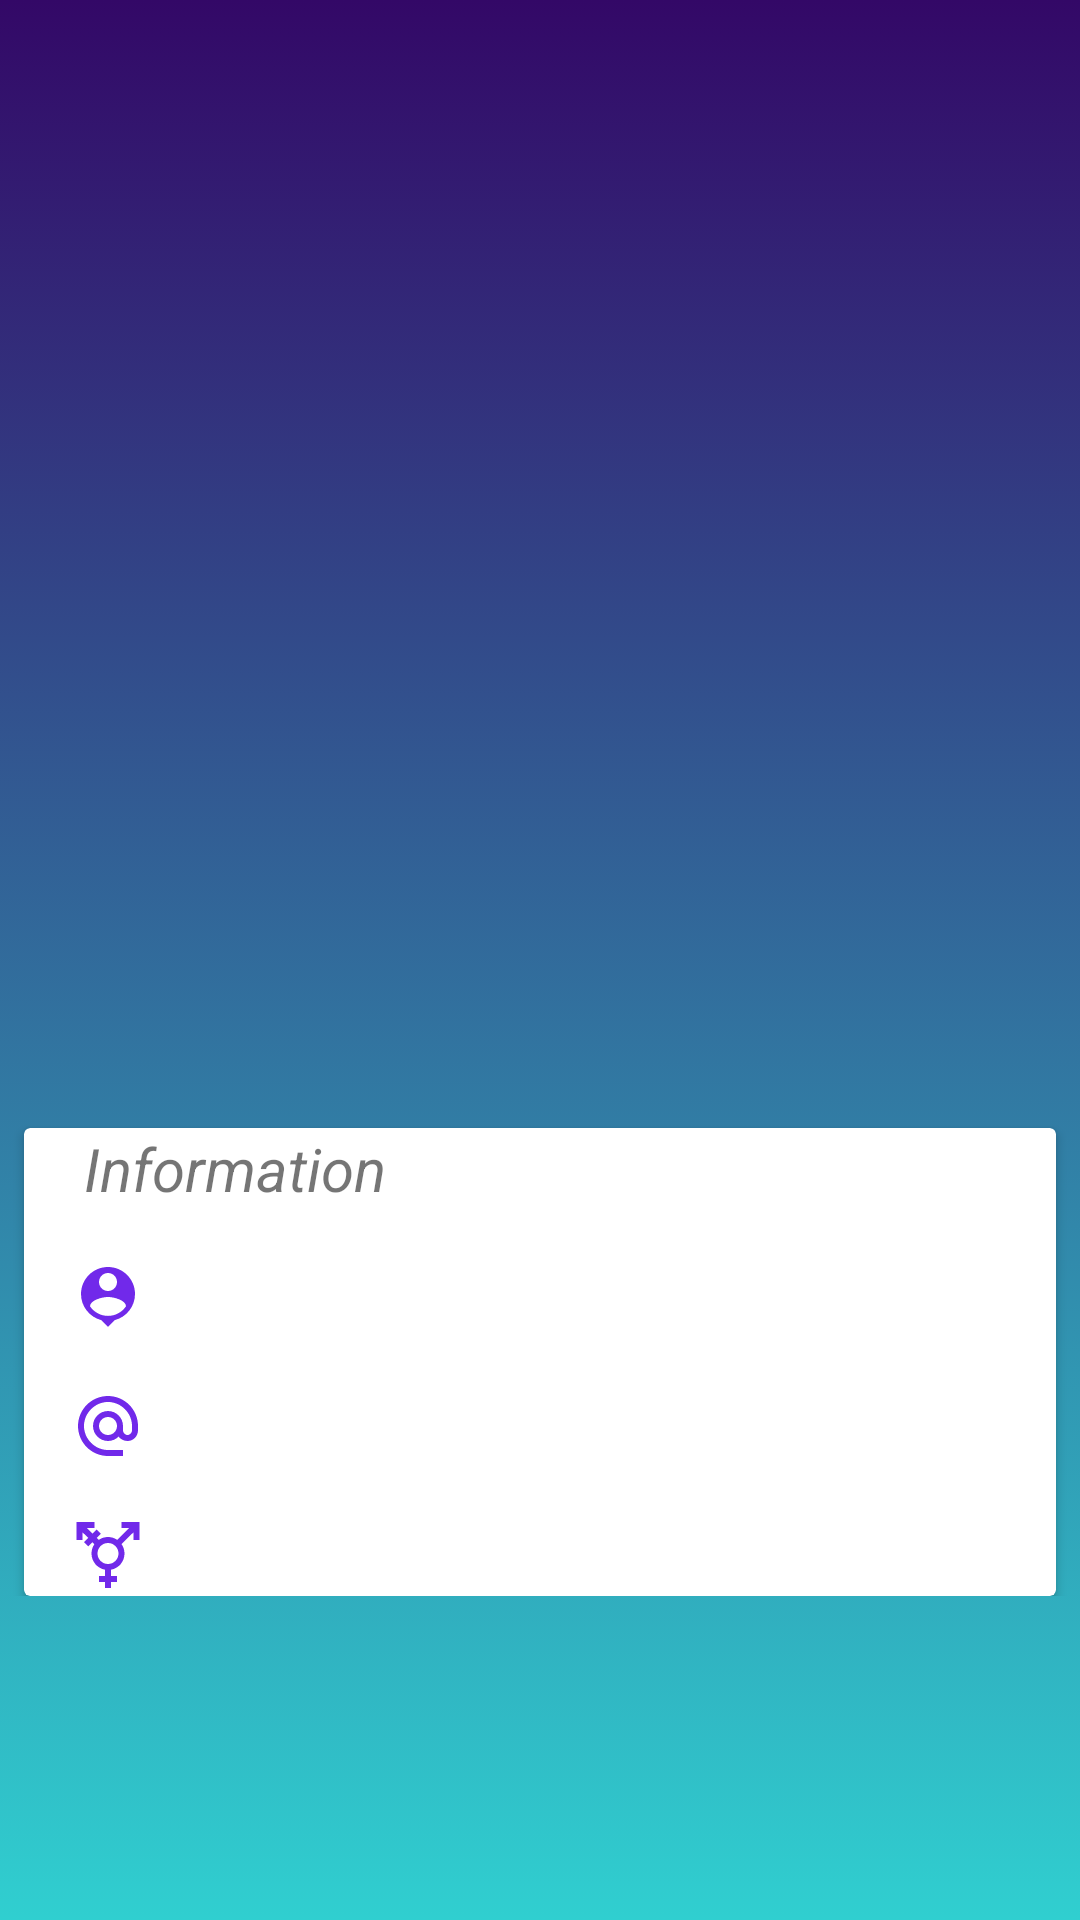

Icons on this 1080px×1920px Android screen, each with the point to tap as point (x, y):
email: point (108, 1426)
profile names: point (108, 1297)
sex: point (108, 1555)
